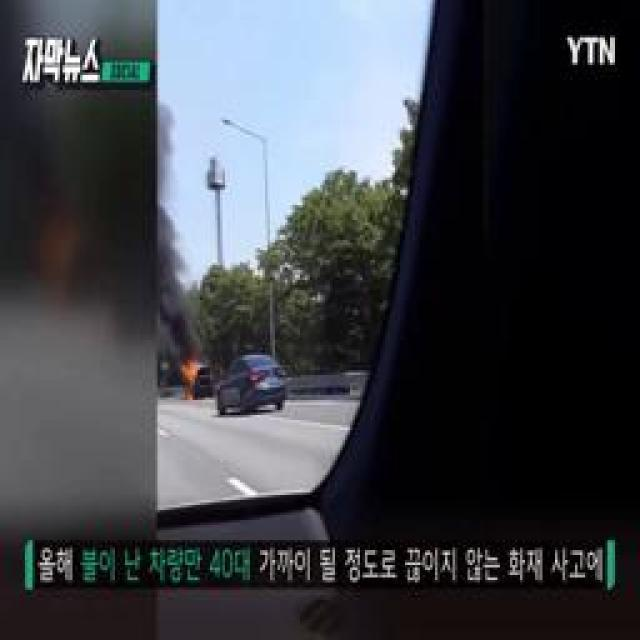Fire: (183, 361, 205, 397)
